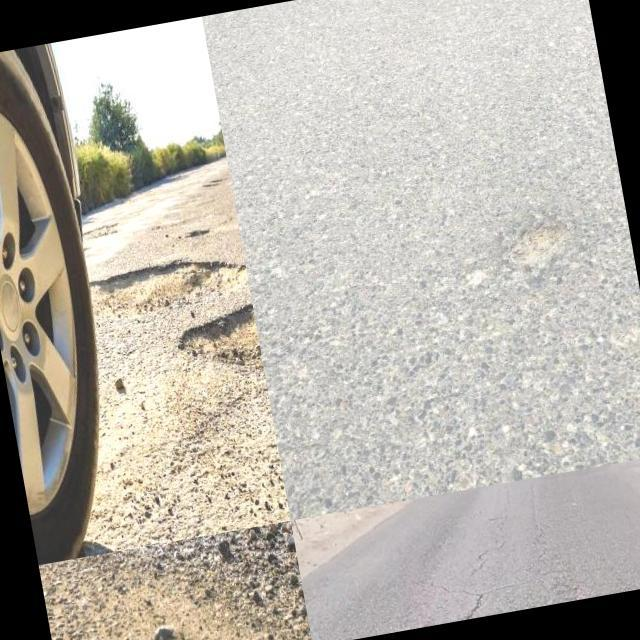Pothole: (90, 260, 248, 318), (180, 305, 264, 369), (503, 222, 574, 266)
